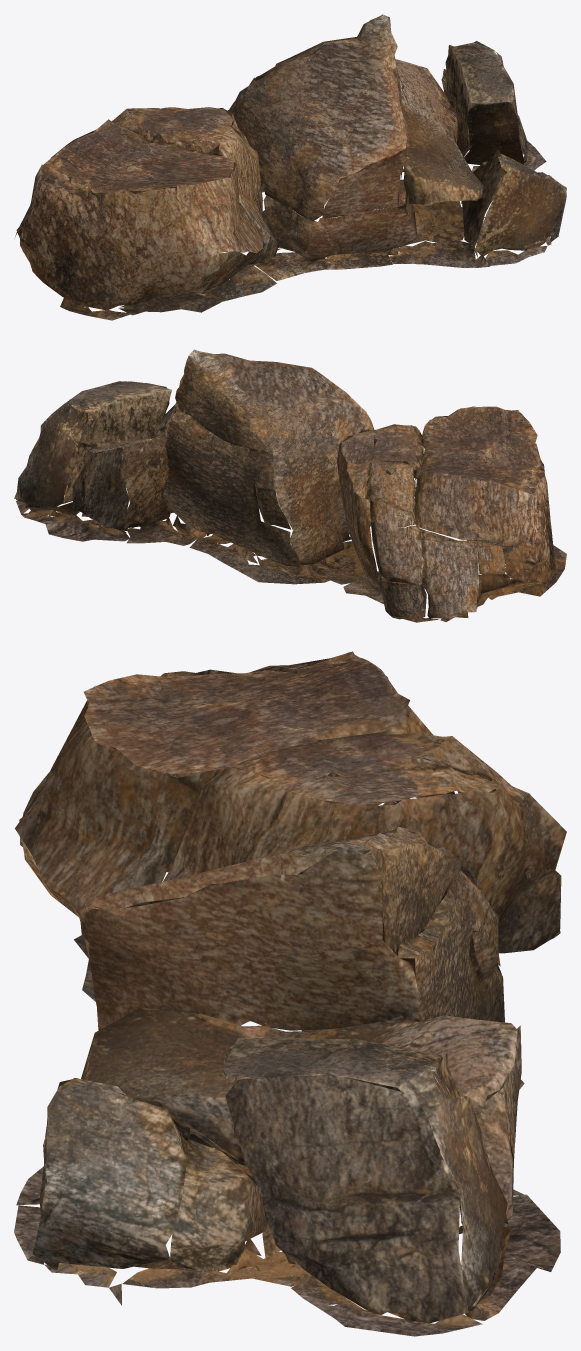
File: pr_granite_a.fbx
The picture shows the model from 3 angles, top to bottom: view 1: azimuth 30°, elevation 25°; view 2: azimuth 150°, elevation 25°; view 3: azimuth 270°, elevation 25°; orthographic projection. The views are drawn at different scales.
Visible parts, largest first — view 1: pr_granite_a_LOD0; view 2: pr_granite_a_LOD0; view 3: pr_granite_a_LOD0.
Part boxes in pixels (x1,y1,x2,y2): pr_granite_a_LOD0: [14, 14, 566, 320]; pr_granite_a_LOD0: [14, 349, 566, 622]; pr_granite_a_LOD0: [14, 651, 566, 1336].
Size of what is drawn, in the model's own units: 2.52 by 0.8837 by 1.22.
